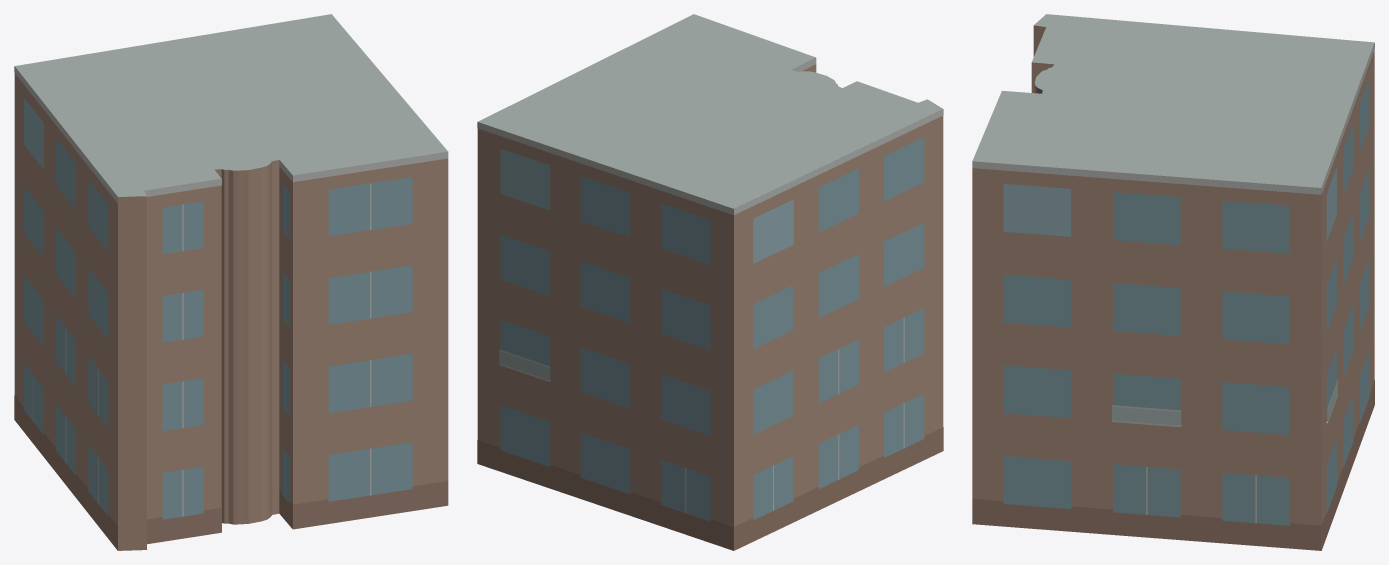
Rendered from survey-upis-32881009.glb.
The picture shows the model from 3 angles, left to right: view 1: azimuth 30°, elevation 25°; view 2: azimuth 150°, elevation 25°; view 3: azimuth 270°, elevation 25°; orthographic projection. The views are drawn at different scales.
Parts seen in each view (by area): view 1: survey-upis-32881009.tmp; view 2: survey-upis-32881009.tmp; view 3: survey-upis-32881009.tmp.
Part boxes in pixels (box(x1,y1,x2,y2)): survey-upis-32881009.tmp: box(14, 14, 448, 550); survey-upis-32881009.tmp: box(477, 14, 943, 550); survey-upis-32881009.tmp: box(972, 14, 1374, 550).
Size of the model in its own units: 13.33 by 12.95 by 13.03.
